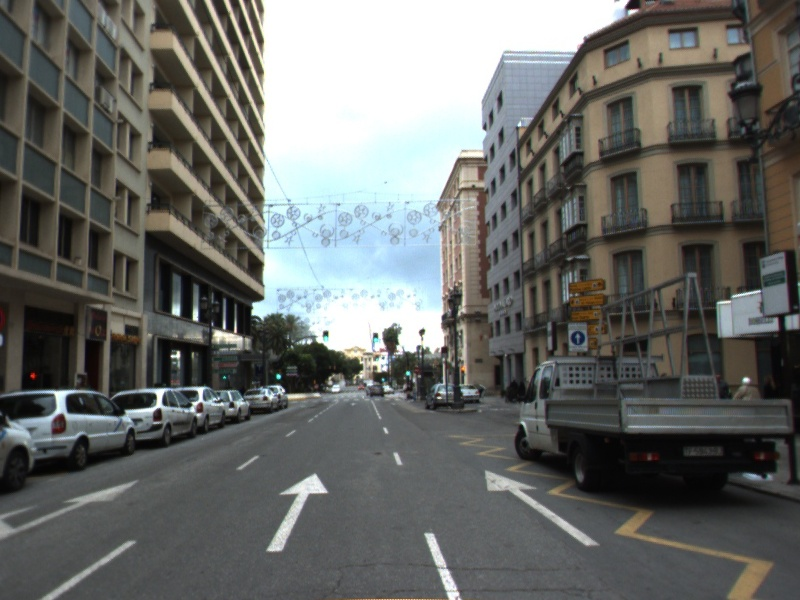STRAIGHT: (481, 466, 606, 549), (260, 470, 333, 555)
STRAIGHT_LEFT: (1, 475, 144, 540)
